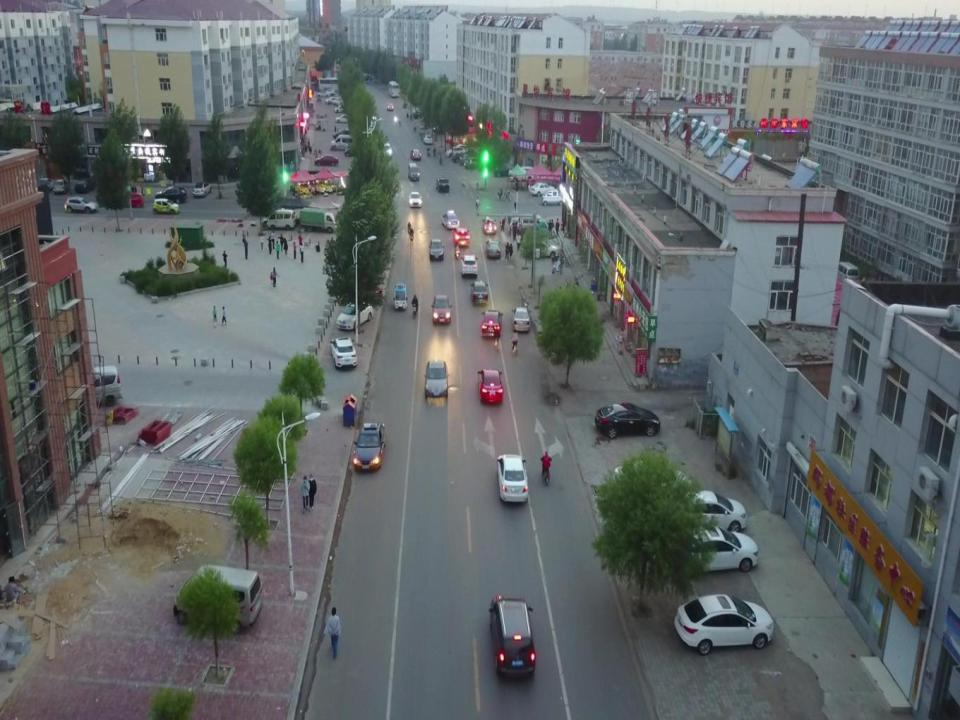bus: (387, 80, 399, 98)
car: (674, 593, 774, 655), (668, 525, 758, 575), (488, 594, 536, 678), (664, 490, 747, 534), (614, 458, 692, 501), (594, 401, 661, 439), (352, 422, 387, 472), (496, 454, 530, 502), (335, 300, 374, 330), (423, 360, 449, 400), (477, 368, 504, 404), (330, 336, 358, 370), (522, 238, 561, 259), (480, 309, 504, 339), (430, 294, 452, 326), (154, 184, 188, 204), (64, 195, 99, 214), (510, 305, 532, 332), (470, 280, 489, 306), (460, 253, 479, 279), (152, 197, 180, 214), (120, 192, 145, 209), (528, 182, 556, 197), (441, 209, 460, 231), (428, 237, 445, 260), (452, 227, 470, 248), (484, 239, 502, 259), (192, 180, 212, 198), (74, 177, 96, 193), (52, 178, 71, 196), (35, 177, 54, 194), (343, 143, 365, 157), (480, 216, 497, 234), (314, 154, 339, 166), (434, 176, 450, 193), (408, 191, 423, 207), (381, 141, 393, 158), (332, 129, 352, 139), (334, 103, 349, 114), (335, 114, 353, 123), (410, 148, 421, 161), (333, 96, 345, 106), (422, 134, 434, 144), (386, 103, 394, 111)
truck: (300, 206, 338, 234), (542, 187, 568, 206)
van: (173, 564, 263, 634), (266, 209, 297, 231), (520, 214, 546, 234), (330, 134, 356, 150), (407, 162, 420, 182)
